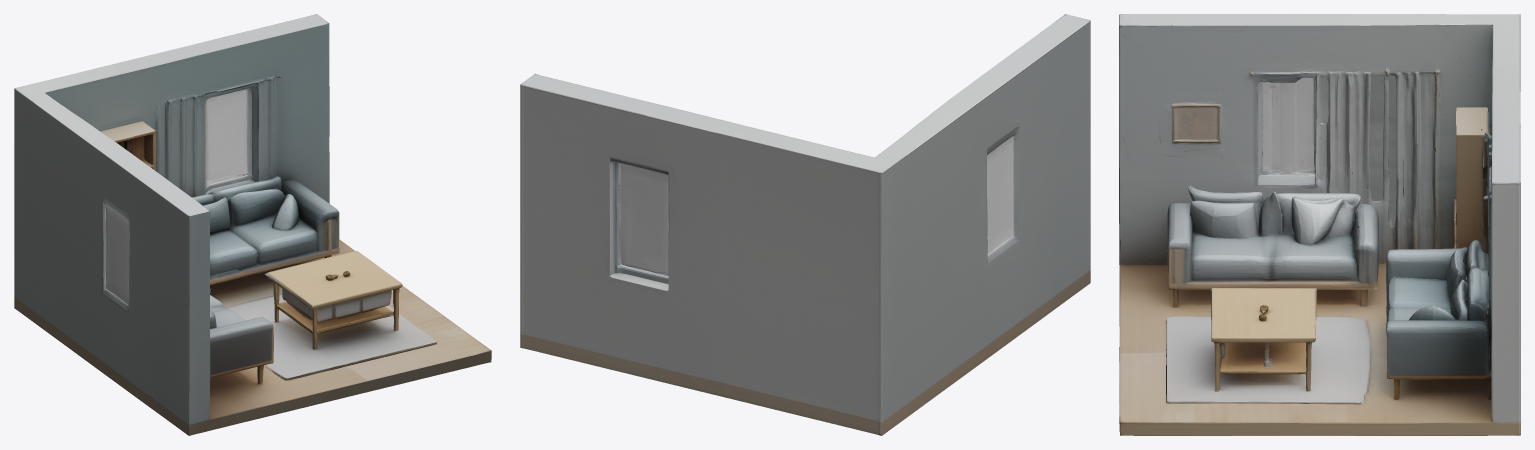
File: interior.glb
The picture shows the model from 3 angles, left to right: view 1: azimuth 30°, elevation 25°; view 2: azimuth 150°, elevation 25°; view 3: azimuth 270°, elevation 25°; orthographic projection. The views are drawn at different scales.
Parts seen in each view (by area): view 1: world; view 2: world; view 3: world.
Boxes of the visible parts, left/top/right/bottom form: world: left=14, top=14, right=491, bottom=435; world: left=520, top=14, right=1090, bottom=435; world: left=1119, top=14, right=1520, bottom=435.
Bounding box in the file's own units: 1 × 0.6958 × 1.
Materials: 1 (1 with a texture image).
